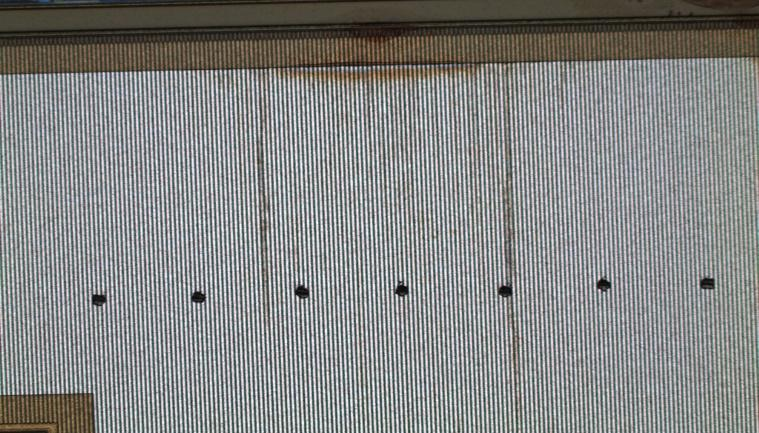SEZ BURNT: (243, 4, 581, 432)
